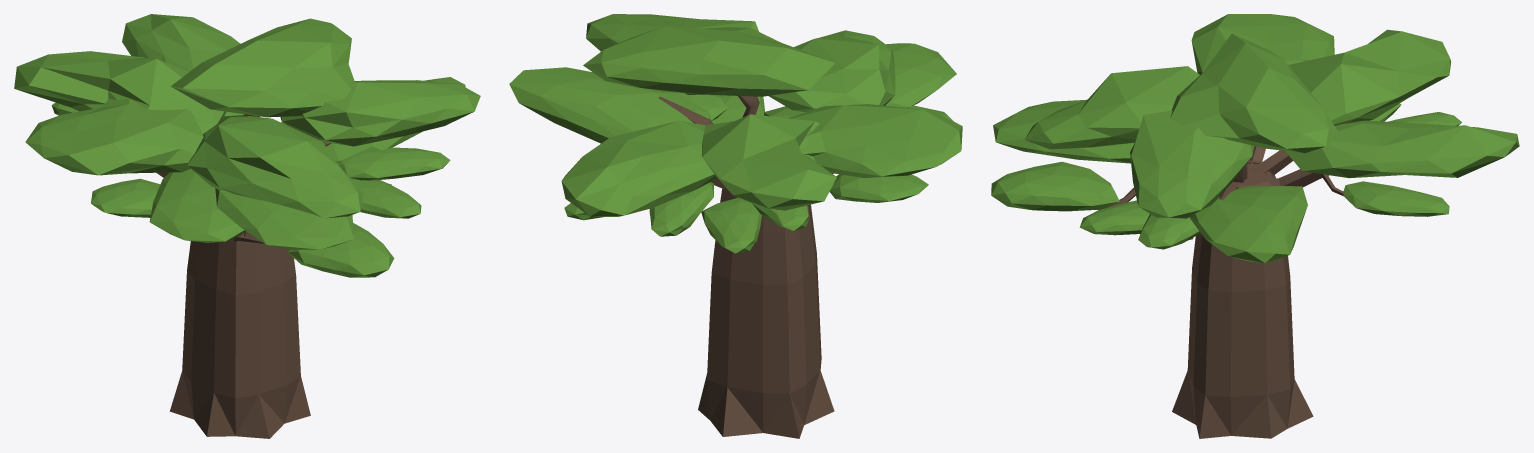
File: tree10a.glb
The picture shows the model from 3 angles, left to right: view 1: azimuth 30°, elevation 25°; view 2: azimuth 150°, elevation 25°; view 3: azimuth 270°, elevation 25°; orthographic projection. The views are drawn at different scales.
Parts seen in each view (by area): view 1: tree_00103; view 2: tree_00103; view 3: tree_00103.
Boxes of the visible parts, x1,y1,x2,y2 form: tree_00103: (14, 14, 480, 438); tree_00103: (509, 14, 962, 438); tree_00103: (991, 14, 1519, 438).
Size of the model in its own units: 2.81 by 2.26 by 2.99.
